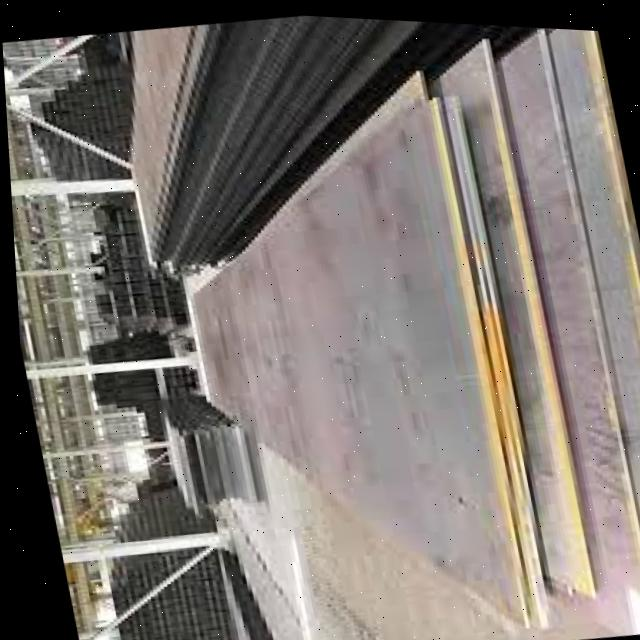Dry: (186, 28, 640, 620)
